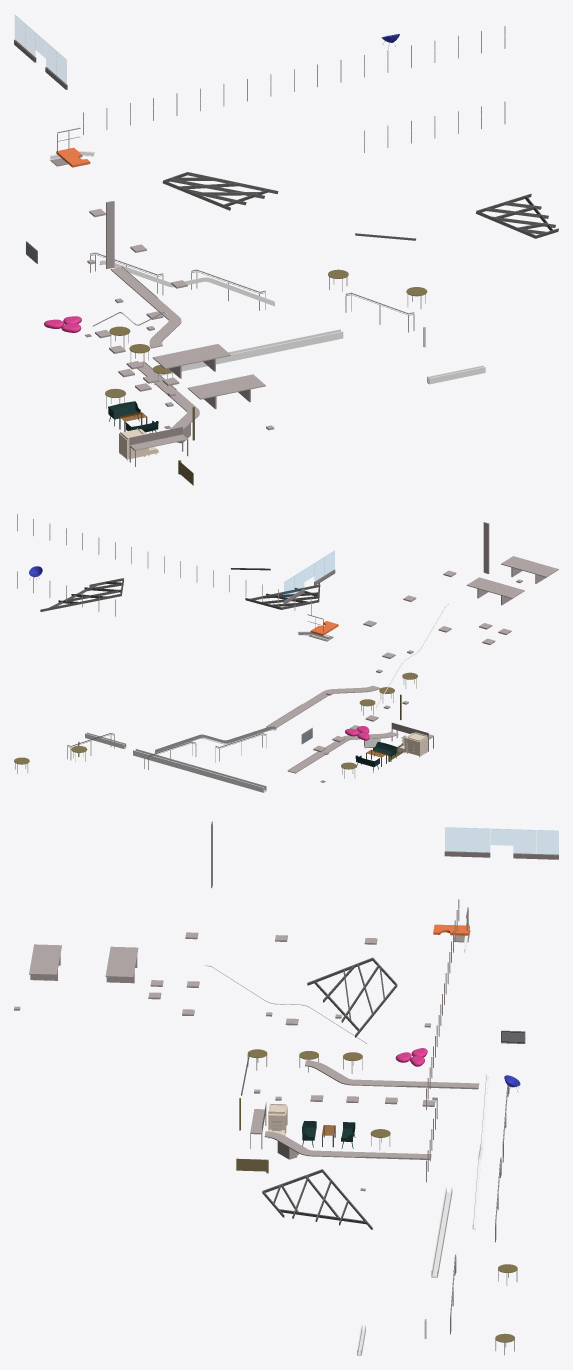
3 views of the same model, one above another, from view 1: azimuth 30°, elevation 25°; view 2: azimuth 150°, elevation 25°; view 3: azimuth 270°, elevation 25° (orthographic). The views are drawn at different scales.
Visible parts, largest first — view 1: 4, 3, 1, 7, 9, 0, 5, 10; view 2: 4, 3, 1, 7, 9, 0, 10, 5; view 3: 4, 1, 9, 3, 7, 0.
Part boxes in pixels (x1,y1,x2,y2): 4: (83,26,505,466); 3: (50,150,485,408); 1: (119,172,558,431); 7: (14,39,414,445); 9: (15,15,66,262); 0: (105,269,427,485); 5: (108,401,158,432); 10: (119,428,158,460); 4: (17,514,558,773); 3: (15,604,448,792); 1: (40,568,386,766); 7: (29,569,428,782); 9: (284,551,334,739); 0: (14,672,417,769); 10: (398,732,427,757); 5: (355,742,397,772); 4: (14,821,479,1182); 1: (241,957,397,1229); 9: (445,827,558,854); 3: (204,924,517,1355); 7: (262,851,558,1334); 0: (236,1049,517,1342).
Size of the model in its own units: 28.32 by 19.62 by 27.35.
